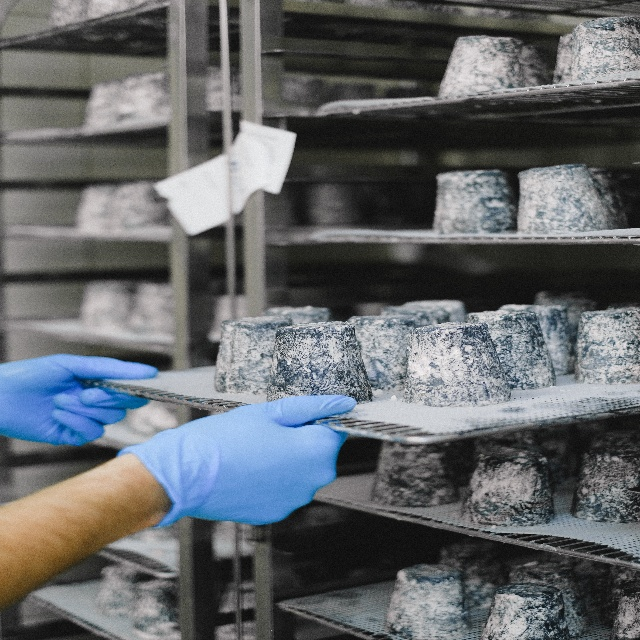Guantes: (117, 394, 357, 529), (0, 353, 158, 448)
